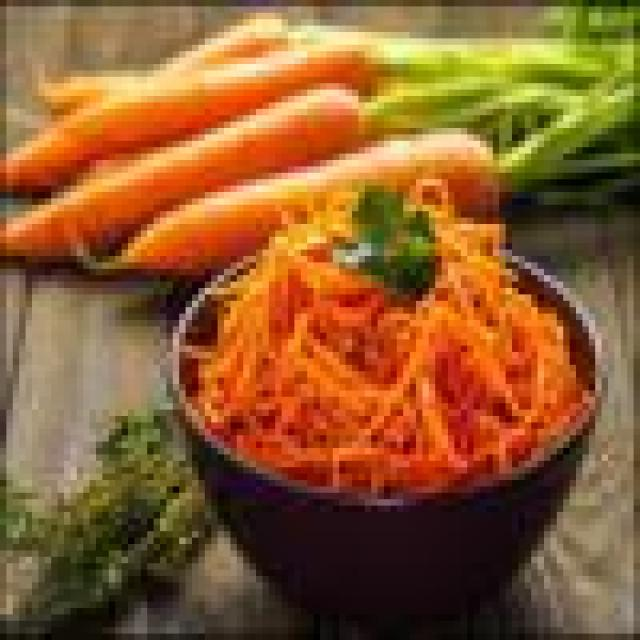Fresh_Carrot: (0, 80, 640, 264), (0, 39, 637, 192), (59, 116, 640, 274)
